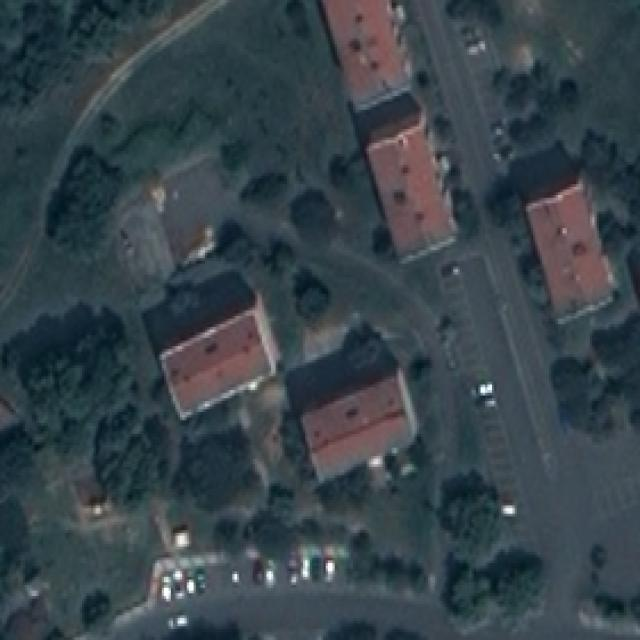Batiment: (355, 92, 455, 256), (160, 308, 275, 418), (302, 371, 416, 480), (526, 181, 612, 314), (323, 0, 406, 103), (162, 158, 222, 264)
